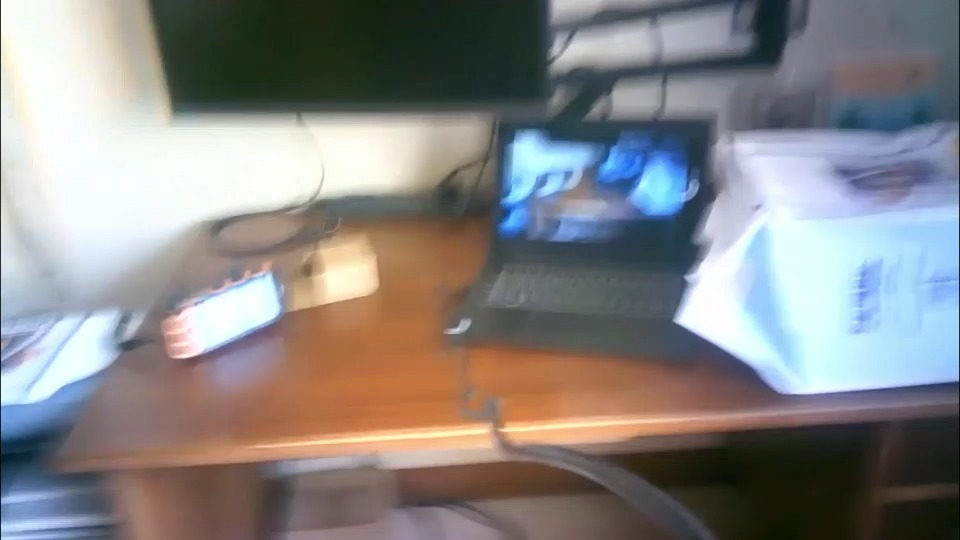wheat_flour_blue_label: (723, 128, 960, 385)
